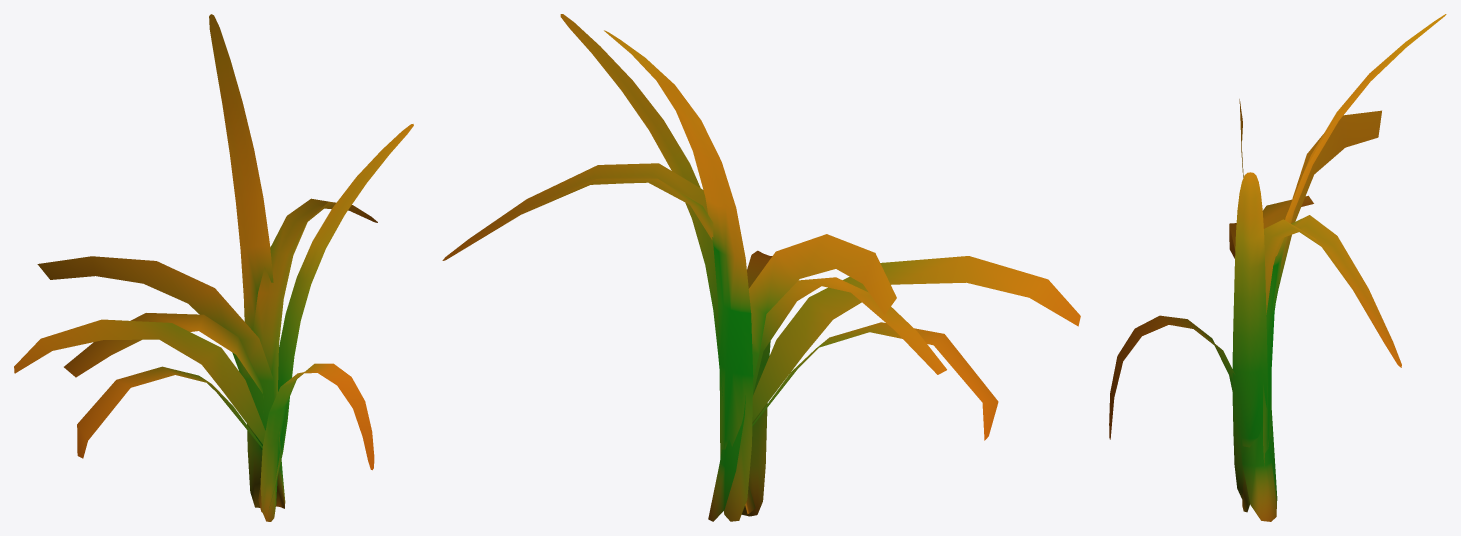
The model's file is SM_RiceBunch.fbx.
3 views of the same model, side by side, from view 1: azimuth 30°, elevation 25°; view 2: azimuth 150°, elevation 25°; view 3: azimuth 270°, elevation 25° (orthographic). The views are drawn at different scales.
Visible parts, largest first — view 1: SM_RiceBunch; view 2: SM_RiceBunch; view 3: SM_RiceBunch.
Part boxes in pixels (left/top/right/bottom): SM_RiceBunch: left=14, top=14, right=413, bottom=521; SM_RiceBunch: left=442, top=14, right=1080, bottom=521; SM_RiceBunch: left=1109, top=14, right=1446, bottom=521.
Size of the model in its own units: 0.7683 by 0.7441 by 0.4442.
